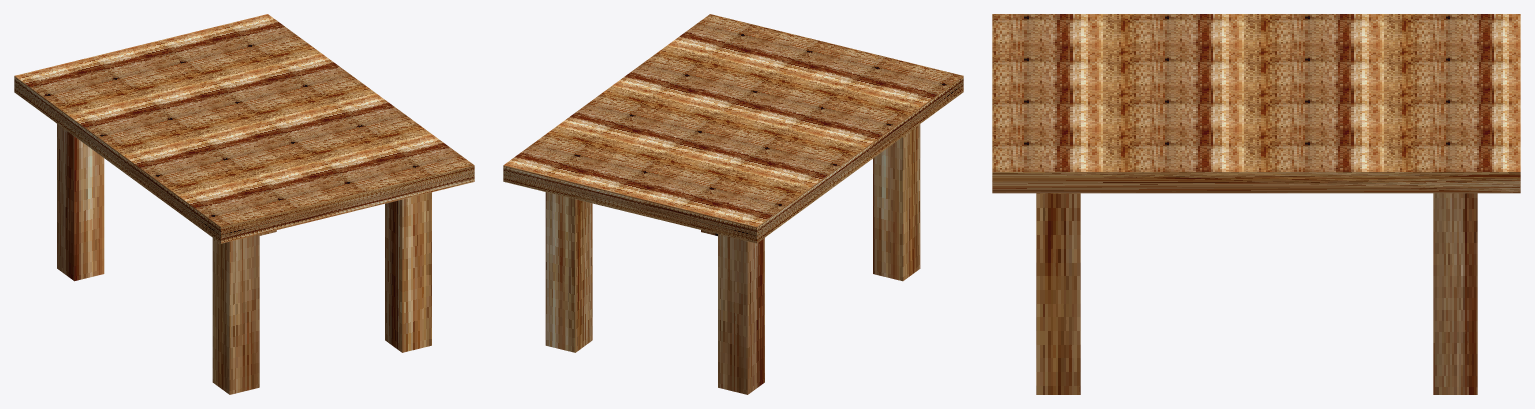
The model's file is table_S1.fbx.
3 renders of one model, left to right at view 1: azimuth 30°, elevation 25°; view 2: azimuth 150°, elevation 25°; view 3: azimuth 270°, elevation 25°, orthographic. The views are drawn at different scales.
Visible parts, largest first — view 1: Cube; view 2: Cube; view 3: Cube.
Boxes of the visible parts, x1,y1,x2,y2 form: Cube: (14,14,474,394); Cube: (503,14,963,394); Cube: (992,14,1520,394).
Size of the model in its own units: 1117 by 786 by 1579.
